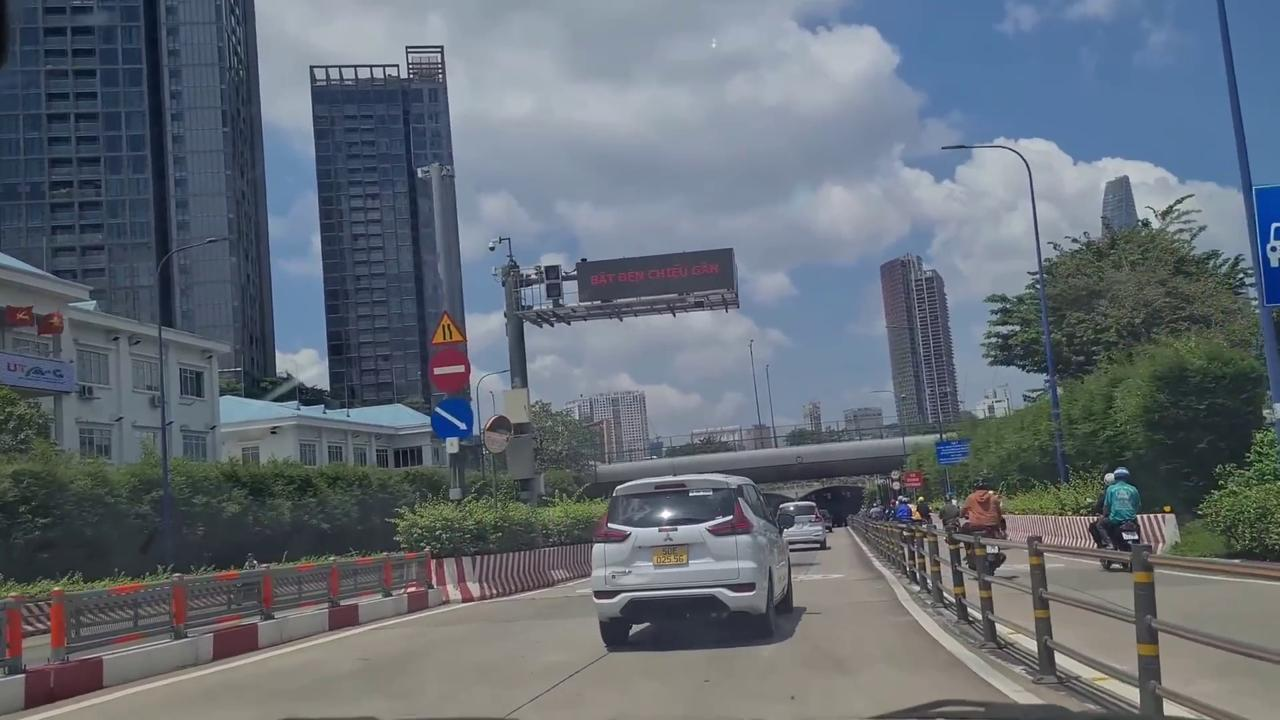Cấm đi ngược chiều: (429, 346, 473, 393)
Hướng phải đi vòng sang phải: (432, 396, 476, 440)
Đuờng hẹp: (431, 310, 468, 346)
